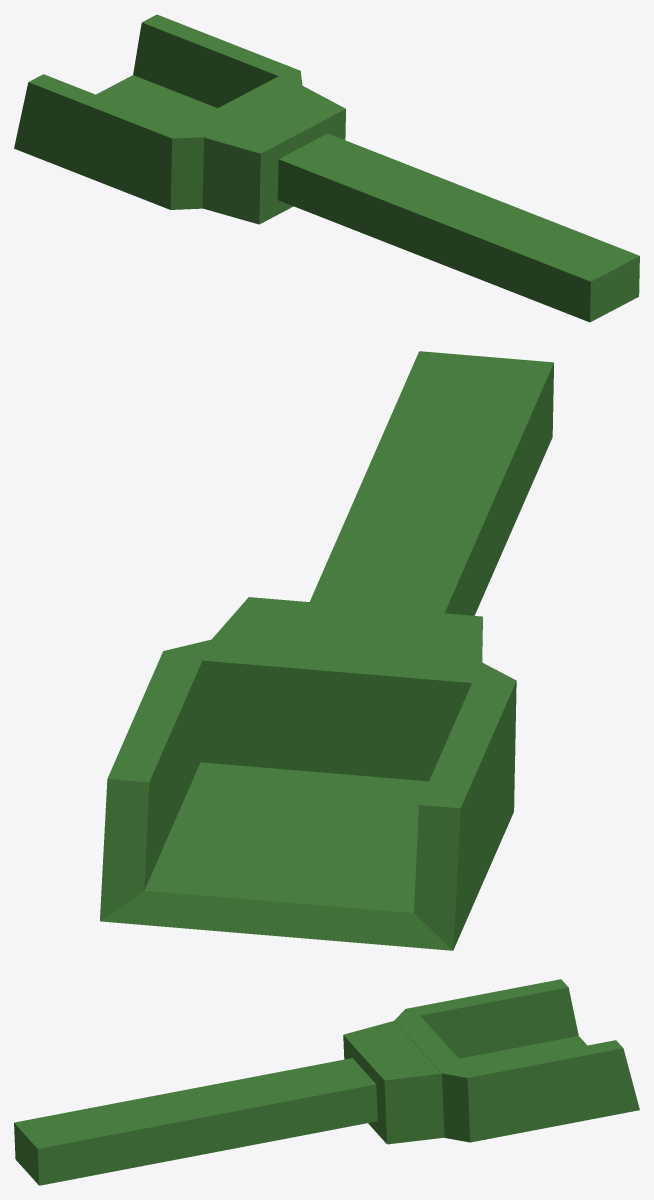
File: Scapulas.fbx
The picture shows the model from 3 angles, top to bottom: view 1: azimuth 30°, elevation 25°; view 2: azimuth 150°, elevation 25°; view 3: azimuth 270°, elevation 25°; orthographic projection. The views are drawn at different scales.
Visible parts, largest first — view 1: Scapulas; view 2: Scapulas; view 3: Scapulas.
Boxes of the visible parts, x1,y1,x2,y2 form: Scapulas: (14,14,639,322); Scapulas: (100,351,553,950); Scapulas: (14,979,639,1185).
Size of the model in its own units: 20.01 by 37.8 by 4.91.
